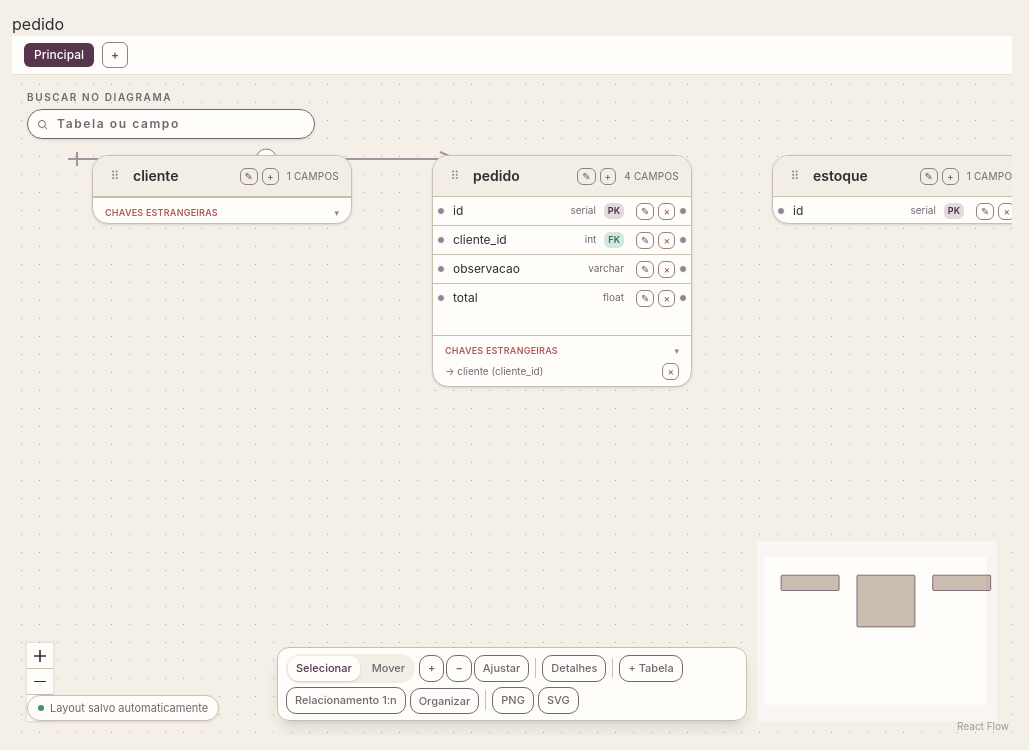
DiagramCanvas › modo compacto esconde campos e expande pelo atalho acessível
The image size is (1029, 750).
Check: the element with test id "diagram-node-pedido" is shown, box [432,155,692,387]
Check: the button with test id "diagram-column-pedido-observacao" is shown, box [433,255,636,283]
Click the button with test id "diagram-detail-toggle" at point(574, 668), box [542,655,606,682]
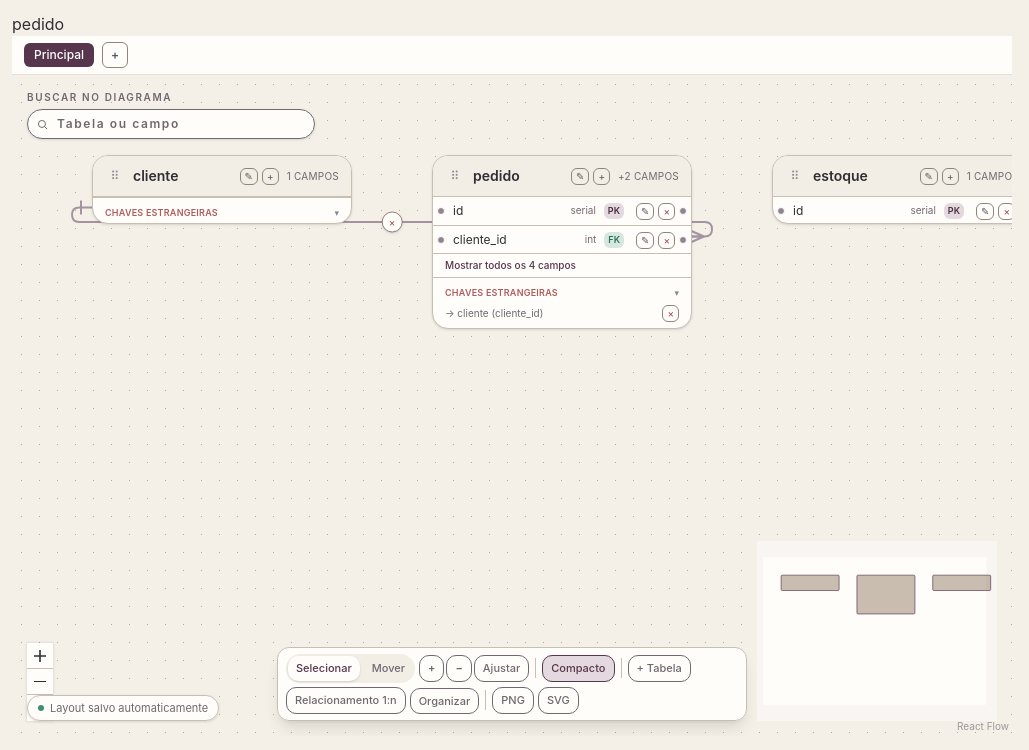
Check: the button with test id "diagram-column-pedido-observacao" is gone
Check: the button with test id "diagram-expand-pedido" shows "4"
Click the button with test id "diagram-expand-pedido" at point(562, 264), box [433,252,691,276]
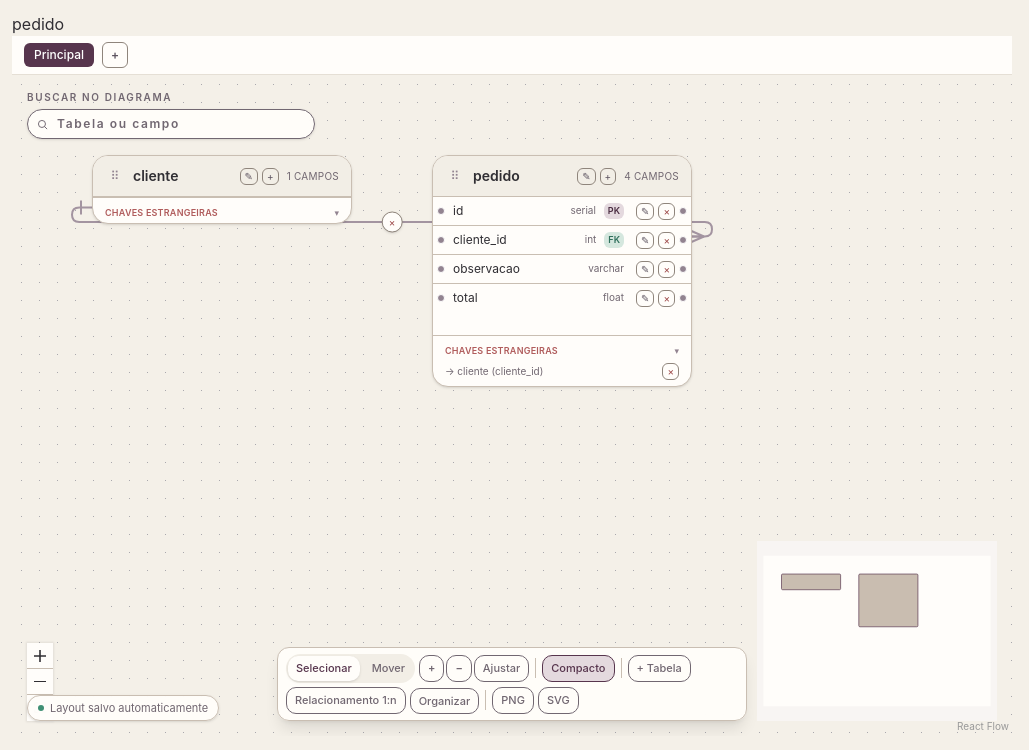
Check: the button with test id "diagram-column-pedido-observacao" is shown, box [433,255,636,283]
